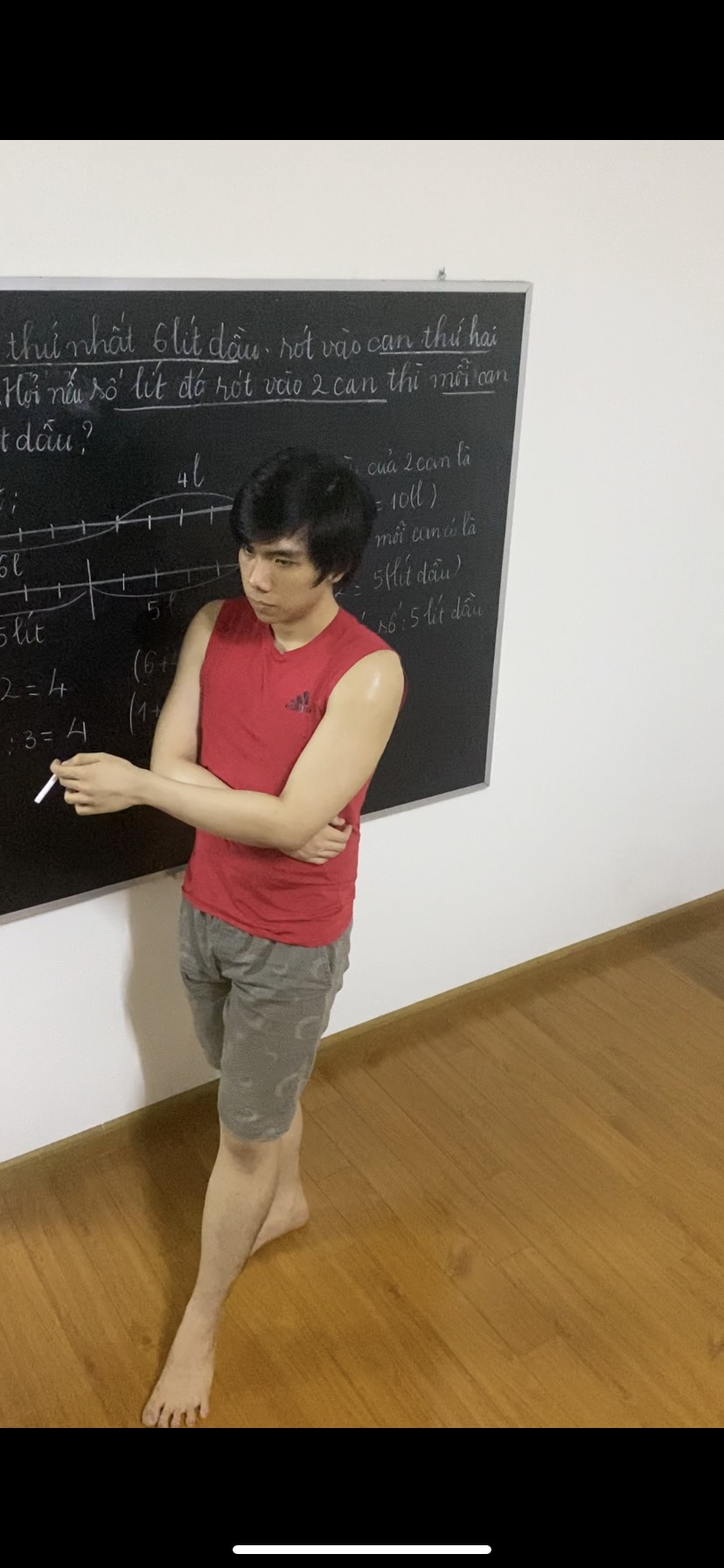cigarette: (30, 774, 59, 809)
person: (150, 425, 407, 1410)
